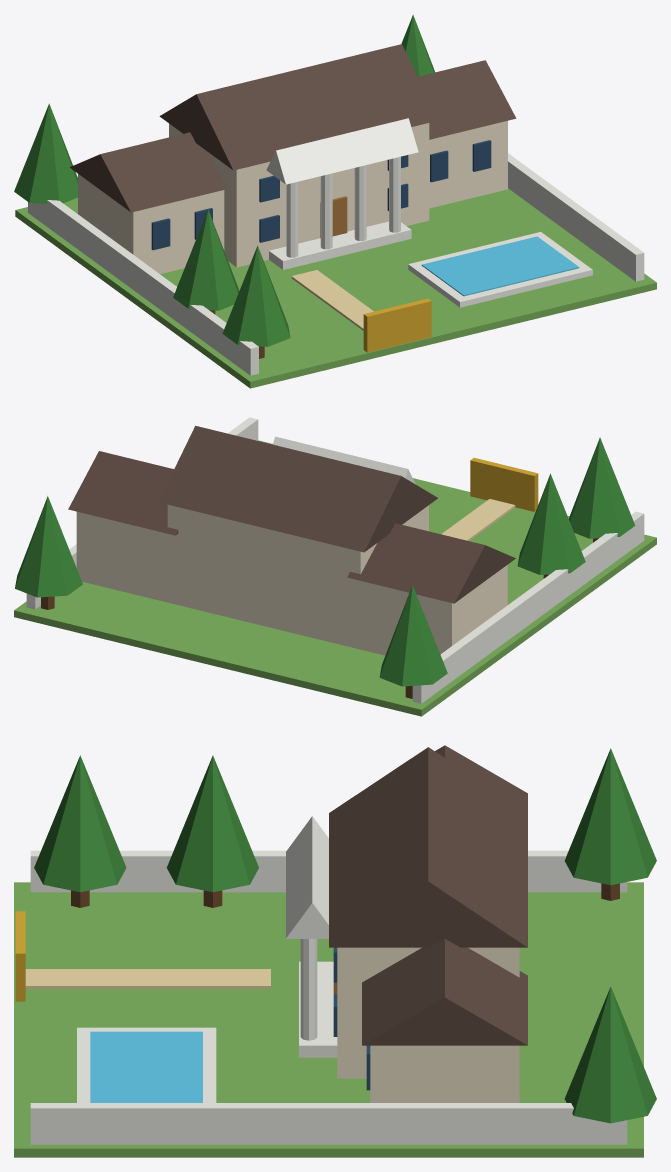
The model's file is mansion.glb.
3 renders of one model, top to bottom at view 1: azimuth 30°, elevation 25°; view 2: azimuth 150°, elevation 25°; view 3: azimuth 270°, elevation 25°, orthographic. The views are drawn at different scales.
Visible parts, largest first — view 1: mansion; view 2: mansion; view 3: mansion.
Part boxes in pixels (bbox=[...]): mansion: bbox=[14, 14, 656, 388]; mansion: bbox=[14, 417, 656, 716]; mansion: bbox=[14, 745, 656, 1157].
Bounding box in the file's own units: 1.97 × 0.7 × 1.94.
